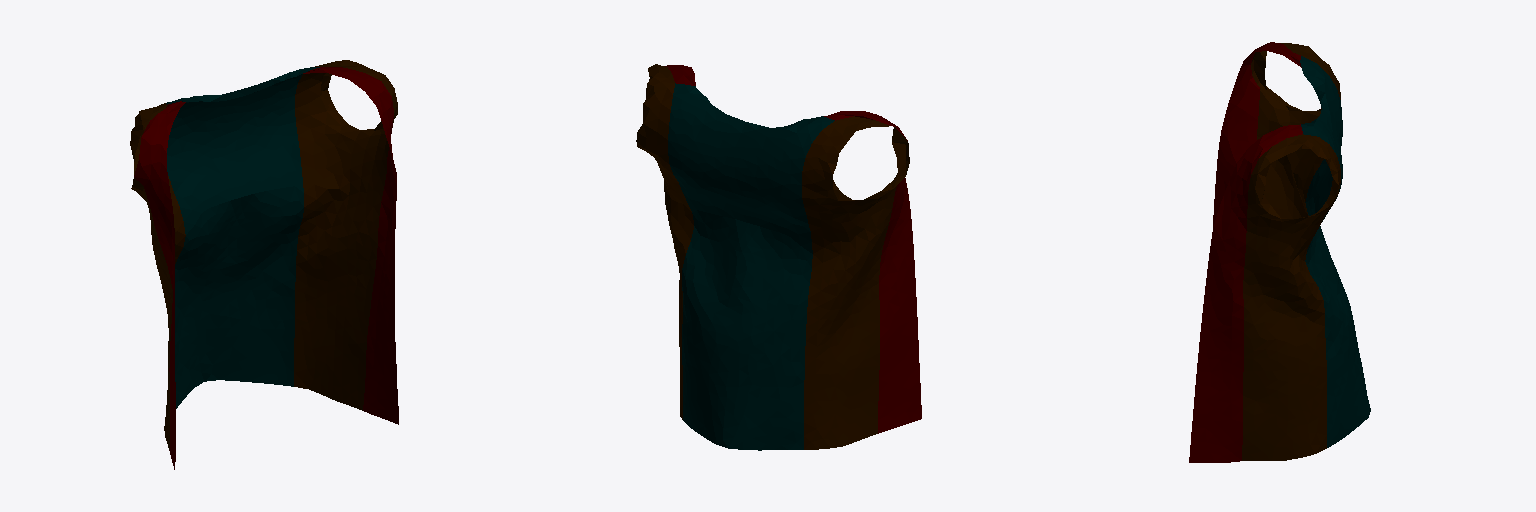
File: God_robe.obj
3 renders of one model, left to right at view 1: azimuth 30°, elevation 25°; view 2: azimuth 150°, elevation 25°; view 3: azimuth 270°, elevation 25°, orthographic.
Parts seen in each view (by area): view 1: object; view 2: object; view 3: object.
Part boxes in pixels (bbox=[...]): object: bbox=[130, 60, 398, 469]; object: bbox=[636, 64, 921, 450]; object: bbox=[1189, 42, 1370, 462].
Bounding box in the file's own units: 0.3933 × 0.4716 × 0.235.